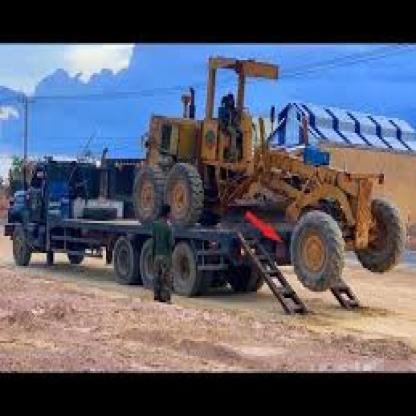bull_dozer/loader/grader: (149, 38, 408, 291)
